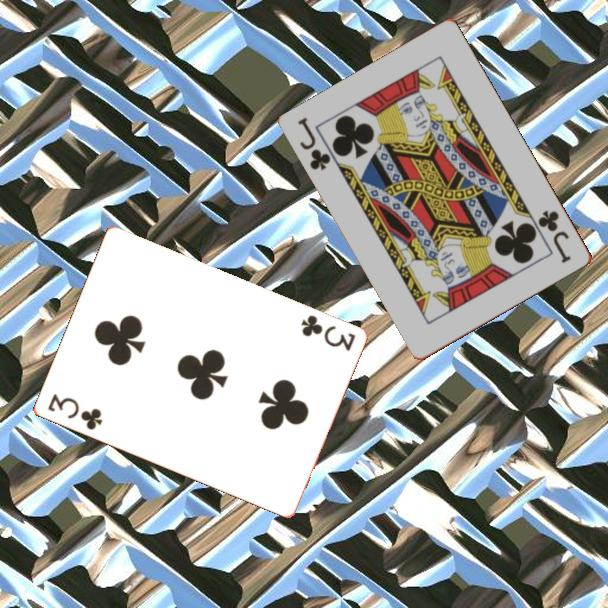c03: (44, 390, 105, 433), (297, 311, 358, 354)
c11: (294, 114, 334, 174), (535, 207, 574, 267)
